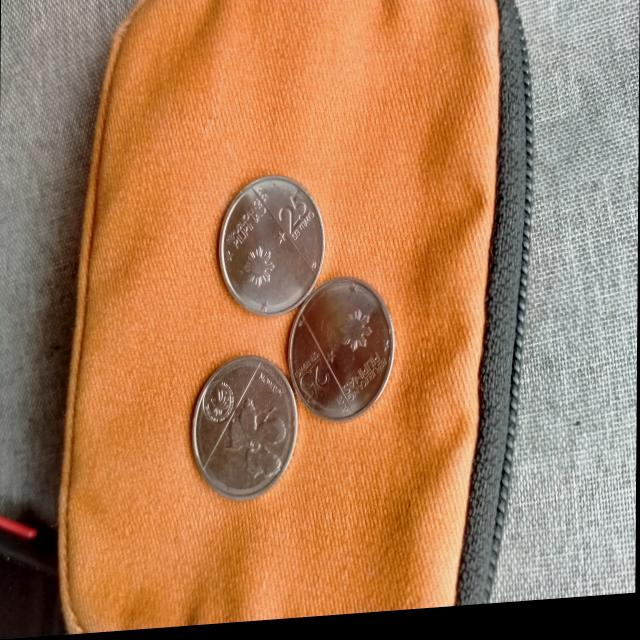25Cent_New_Back: (223, 393, 291, 487)
25Cent_New_Front: (278, 192, 313, 250), (296, 350, 330, 404)
